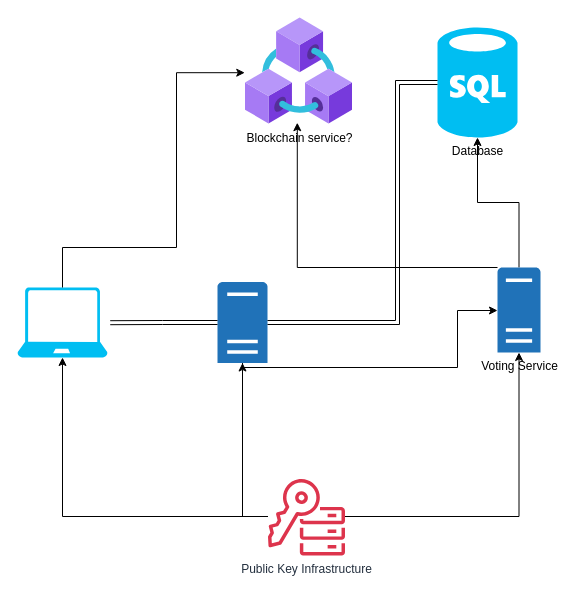
The diagram is 574 pixels wide and 593 high, and some of its shapes have lost their labels. Each missing label, with the centre of its shape:
"Frontend api" goes at point 242,322.
"React Frontend" goes at point 62,322.
